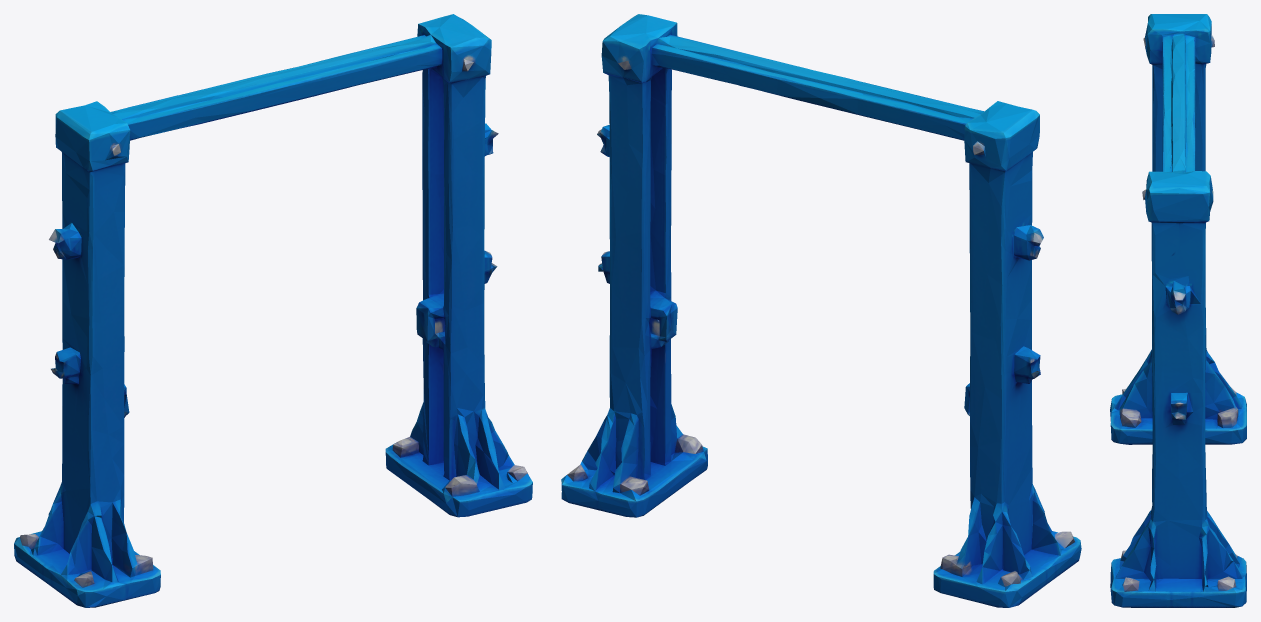
The model's file is car_lift.glb.
The picture shows the model from 3 angles, left to right: view 1: azimuth 30°, elevation 25°; view 2: azimuth 150°, elevation 25°; view 3: azimuth 270°, elevation 25°; orthographic projection. The views are drawn at different scales.
Parts seen in each view (by area): view 1: geometry_0; view 2: geometry_0; view 3: geometry_0.
Boxes of the visible parts, x1,y1,x2,y2 form: geometry_0: [14, 14, 532, 607]; geometry_0: [561, 14, 1081, 607]; geometry_0: [1110, 14, 1246, 607].
Size of the model in its own units: 1 by 0.9603 by 0.2901.
1 material, 1 textured.
